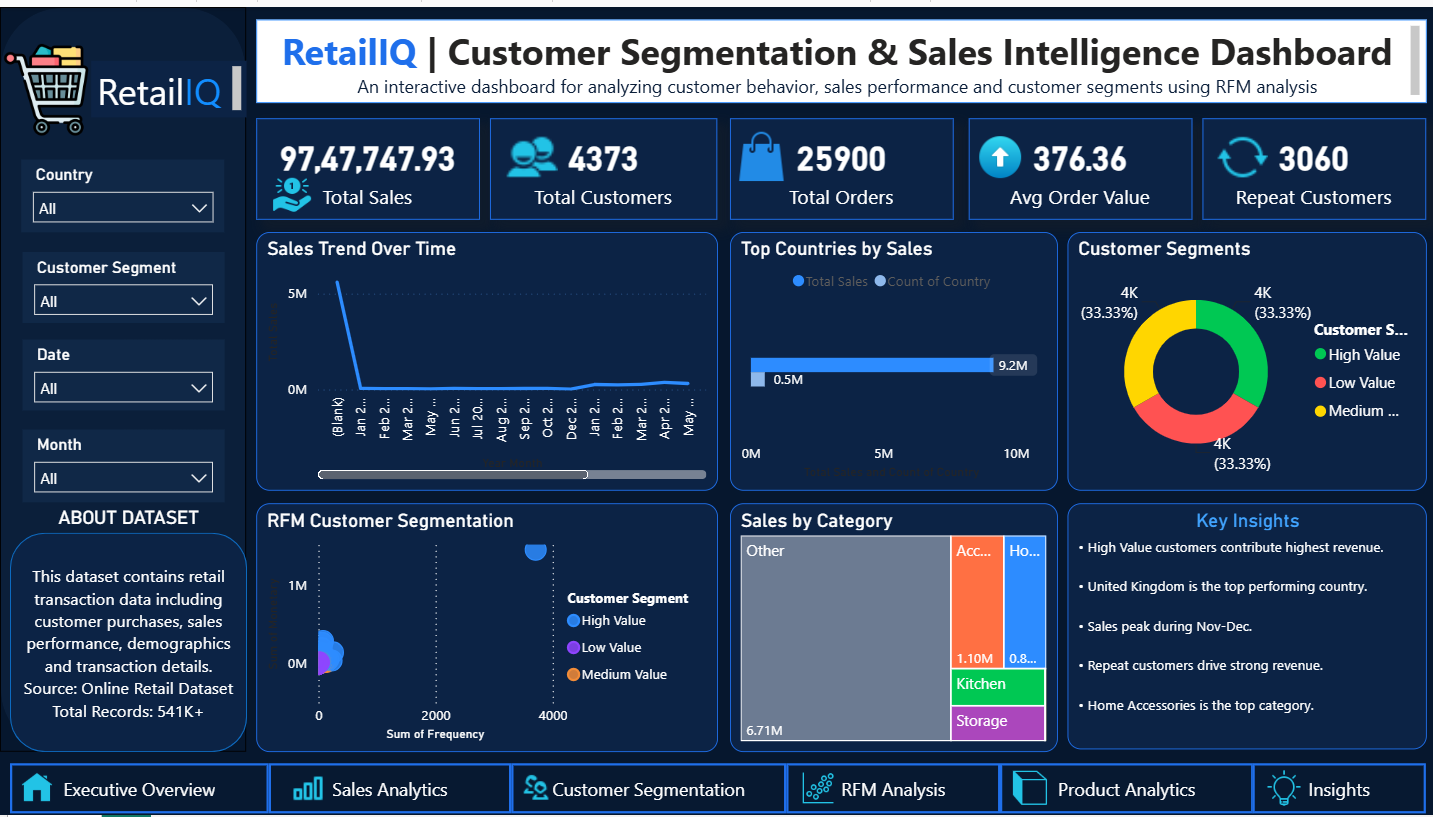

The page's visual inventory and layout, read from the dashboard file:
{"tool":"powerbi","page":{"name":"Page 1","canvas":[1280,720],"ordinal":0},"visuals":[{"type":"shape","box":[0,0,219.6,663.5],"z":0},{"type":"textbox","box":[228,10.9,1042.4,74.8],"z":1000},{"type":"slicer","fields":{"Values":["RFM.Country"]},"box":[19.2,135.8,181.1,64.5],"z":2000},{"type":"slicer","fields":{"Values":["CustomerRFM.Customer Segment"]},"box":[20.6,218.2,179.8,63.1],"z":3000},{"type":"slicer","fields":{"Values":["Date Table.Month"]},"box":[20.5,376.4,179.8,65.1],"z":4000},{"type":"slicer","fields":{"Values":["Date Table.Date.Variation.Date Hierarchy.Year"]},"box":[20.6,296.4,179.8,63.1],"z":5000},{"type":"card","fields":{"Values":["CustomerRFM.Total Sales"]},"box":[228,98.9,199.1,90.5],"z":6000},{"type":"card","fields":{"Values":["CustomerRFM.Total Customers"]},"box":[436.7,98.9,202.7,90.5],"z":7000},{"type":"card","fields":{"Values":["CustomerRFM.Total Orders"]},"box":[650.3,98.9,199.1,90.5],"z":8000},{"type":"card","fields":{"Values":["CustomerRFM.Avg Order Value"]},"box":[862.6,98.9,199.1,90.5],"z":9000},{"type":"card","fields":{"Values":["CustomerRFM.Repeat Customers"]},"box":[1071.3,98.9,199.1,90.5],"z":10000},{"type":"lineChart","title":"Sales Trend Over Time","fields":{"Category":["Date Table.Year Month"],"Y":["CustomerRFM.Total Sales"]},"box":[228,200.3,411.4,230.4],"z":11000},{"type":"clusteredBarChart","title":"Top Countries by Sales","fields":{"Y":["CustomerRFM.Total Sales","CountNonNull(RFM.Country)"]},"box":[650.3,200.3,292,230.4],"z":12000},{"type":"donutChart","title":"Customer Segments","fields":{"Y":["CustomerRFM.Total Customers"],"Category":["CustomerRFM.Customer Segment"]},"box":[950.7,200.3,319.7,230.4],"z":13000},{"type":"scatterChart","title":"RFM Customer Segmentation","fields":{"X":["Sum(CustomerRFM.Frequency)"],"Y":["Sum(CustomerRFM.Monetary)"],"Size":["Sum(CustomerRFM.Recency)"],"Series":["CustomerRFM.Customer Segment"],"Category":["CustomerRFM.CustomerID"]},"box":[228,441.6,411.4,222],"z":14000},{"type":"treemap","title":"Sales by Category","fields":{"Group":["RFM.Category"],"Values":["CustomerRFM.Total Sales"]},"box":[650.3,441.6,292,222],"z":15000},{"type":"textbox","title":"Key Insights","box":[950.7,441.6,319.7,219.6],"z":16000},{"type":"shape","title":"ABOUT DATASET","box":[8.4,444,211.1,219.6],"z":17000},{"type":"actionButton","box":[8.4,673.2,230.4,44.6],"z":18000},{"type":"actionButton","box":[238.9,673.2,216,44.6],"z":19000},{"type":"actionButton","box":[454.8,673.2,244.9,44.6],"z":20000},{"type":"actionButton","box":[699.7,673.2,190.6,44.6],"z":21000},{"type":"actionButton","box":[890.4,673.2,225.6,44.6],"z":22000},{"type":"actionButton","box":[1116,673.2,154.4,44.6],"z":23000},{"type":"image","box":[650.3,109.8,55.5,44.6],"z":24000},{"type":"image","box":[862.6,111,55.5,44.6],"z":25000},{"type":"image","box":[1078.6,111,55.5,44.6],"z":26000},{"type":"image","box":[446.4,109.8,55,45],"z":27000},{"type":"image","box":[228,149.6,63.9,36.2],"z":28000},{"type":"image","box":[19.3,680.4,27.7,30.2],"z":29000},{"type":"image","box":[257,680.4,35,31.4],"z":30000},{"type":"image","box":[465.7,680.4,26.5,29],"z":31000},{"type":"image","box":[705.8,679.2,45.8,32.6],"z":32000},{"type":"image","box":[897.6,680.4,39.8,30.2],"z":33000},{"type":"image","box":[1124.4,679.2,38.6,33.8],"z":34000},{"type":"image","box":[0,14.5,82,118.2],"z":35000},{"type":"textbox","box":[80.8,48.3,138.7,50.7],"z":36000}]}

Visuals, with their boxes in screenshot pixels (x1, y1, x2, y2), scaled from the page's 1280x720 canvas onto the 1433x817 screenshot:
shape: BBox(0, 0, 246, 753)
textbox: BBox(255, 12, 1422, 97)
slicer - RFM.Country: BBox(21, 154, 224, 227)
slicer - CustomerRFM.Customer Segment: BBox(23, 248, 224, 319)
slicer - Date Table.Month: BBox(23, 427, 224, 501)
slicer - Date Table.Date.Variation.Date Hierarchy.Year: BBox(23, 336, 224, 408)
card - CustomerRFM.Total Sales: BBox(255, 112, 478, 215)
card - CustomerRFM.Total Customers: BBox(489, 112, 716, 215)
card - CustomerRFM.Total Orders: BBox(728, 112, 951, 215)
card - CustomerRFM.Avg Order Value: BBox(966, 112, 1189, 215)
card - CustomerRFM.Repeat Customers: BBox(1199, 112, 1422, 215)
"Sales Trend Over Time" lineChart: BBox(255, 227, 716, 489)
"Top Countries by Sales" clusteredBarChart: BBox(728, 227, 1055, 489)
"Customer Segments" donutChart: BBox(1064, 227, 1422, 489)
"RFM Customer Segmentation" scatterChart: BBox(255, 501, 716, 753)
"Sales by Category" treemap: BBox(728, 501, 1055, 753)
"Key Insights" textbox: BBox(1064, 501, 1422, 750)
"ABOUT DATASET" shape: BBox(9, 504, 246, 753)
actionButton: BBox(9, 764, 267, 815)
actionButton: BBox(267, 764, 509, 815)
actionButton: BBox(509, 764, 783, 815)
actionButton: BBox(783, 764, 997, 815)
actionButton: BBox(997, 764, 1249, 815)
actionButton: BBox(1249, 764, 1422, 815)
image: BBox(728, 125, 790, 175)
image: BBox(966, 126, 1028, 177)
image: BBox(1208, 126, 1270, 177)
image: BBox(500, 125, 561, 176)
image: BBox(255, 170, 327, 211)
image: BBox(22, 772, 53, 806)
image: BBox(288, 772, 327, 808)
image: BBox(521, 772, 551, 805)
image: BBox(790, 771, 841, 808)
image: BBox(1005, 772, 1049, 806)
image: BBox(1259, 771, 1302, 809)
image: BBox(0, 16, 92, 151)
textbox: BBox(90, 55, 246, 112)
